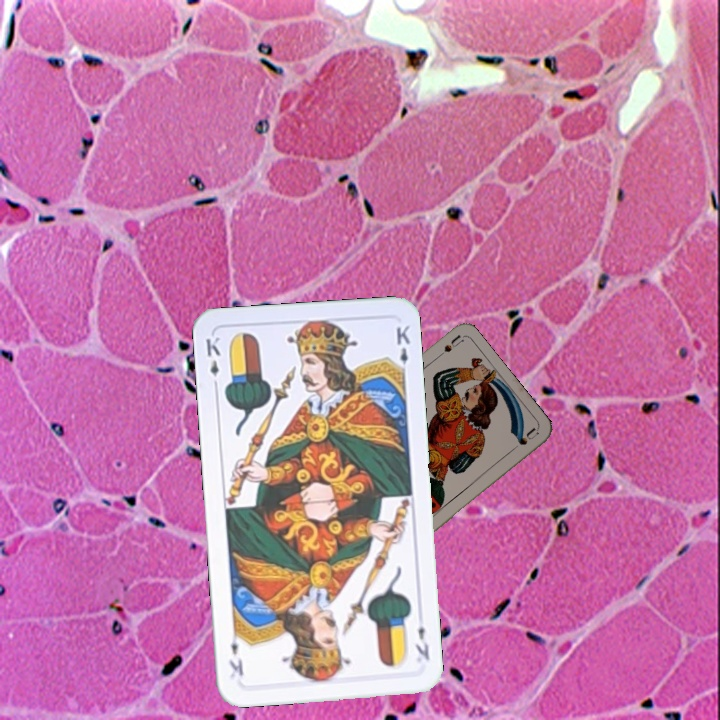EK: (202, 333, 223, 392), (411, 622, 432, 663)
SU: (429, 331, 465, 363)
